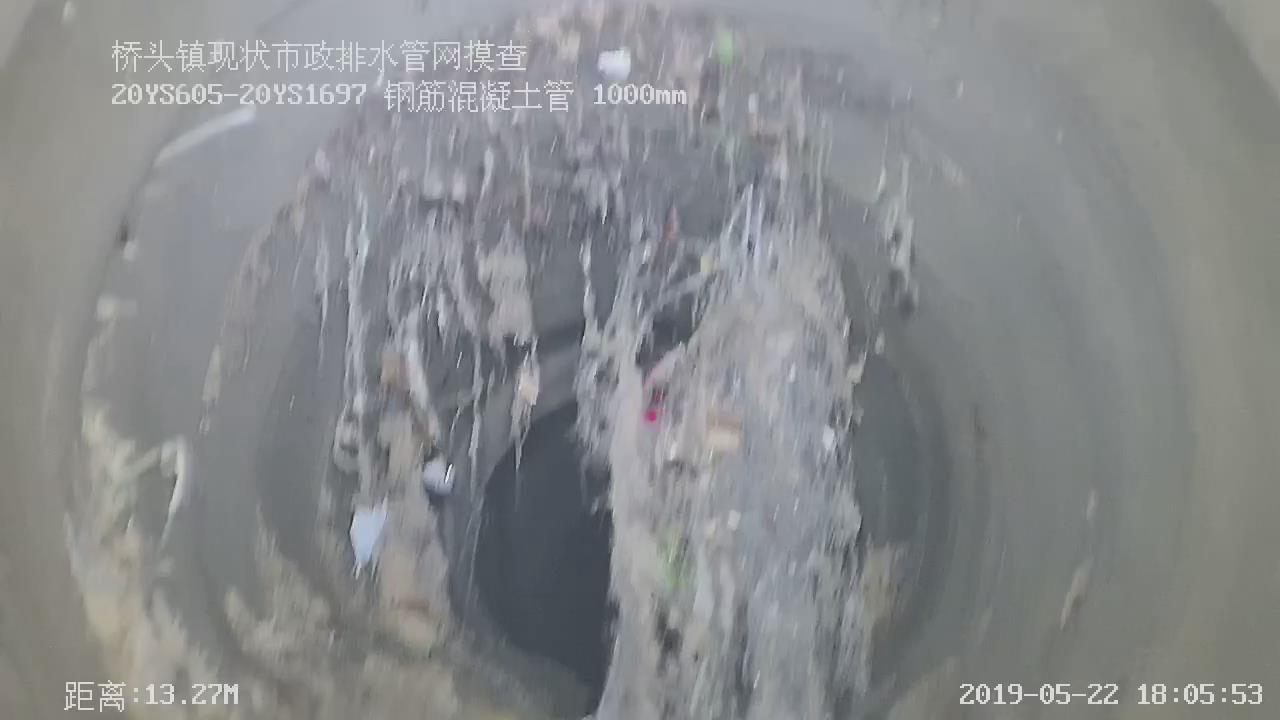SG: (241, 13, 932, 719)
